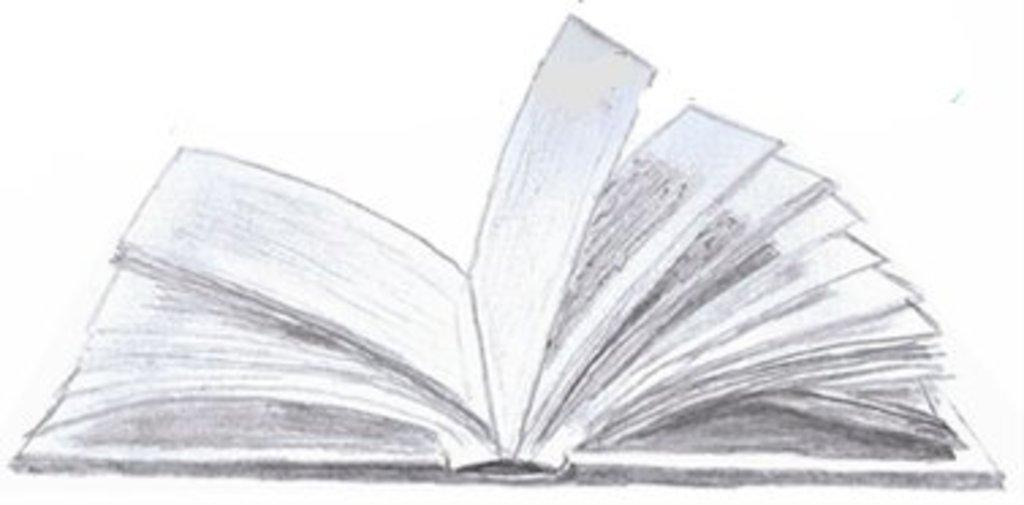book: (0, 33, 1005, 505)
